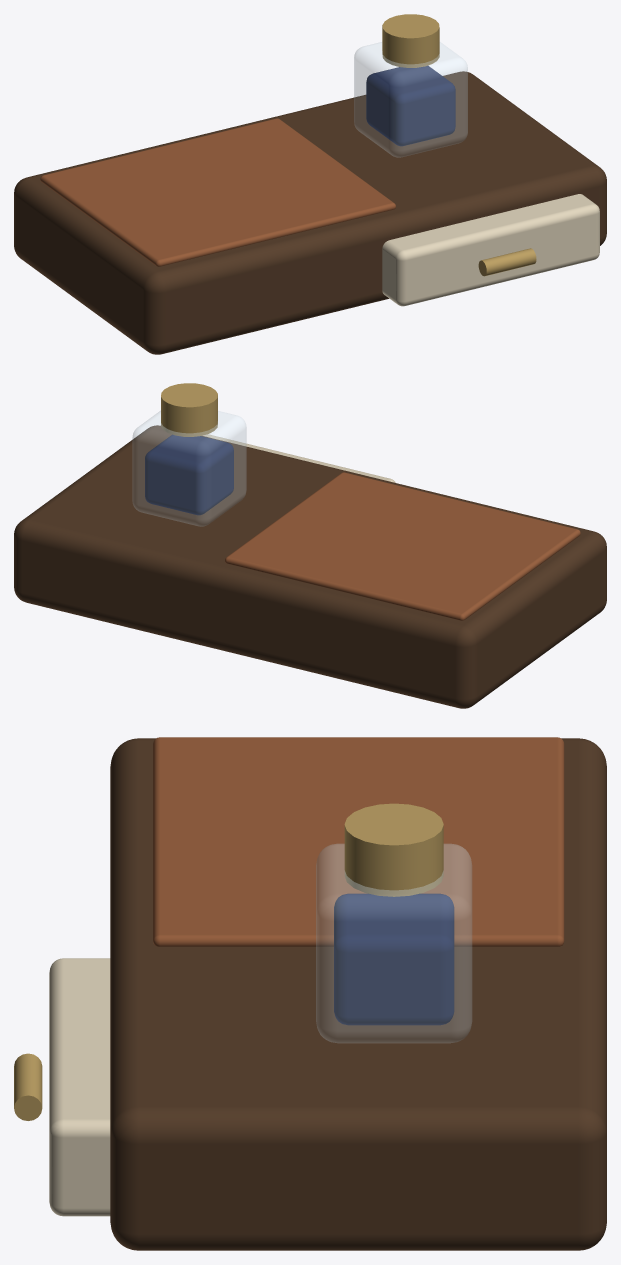
Rendered from atelier-decor-valet-heritage.glb.
3 renders of one model, top to bottom at view 1: azimuth 30°, elevation 25°; view 2: azimuth 150°, elevation 25°; view 3: azimuth 270°, elevation 25°, orthographic. The views are drawn at different scales.
Size of the model in its own units: 0.26 by 0.104 by 0.1672.
